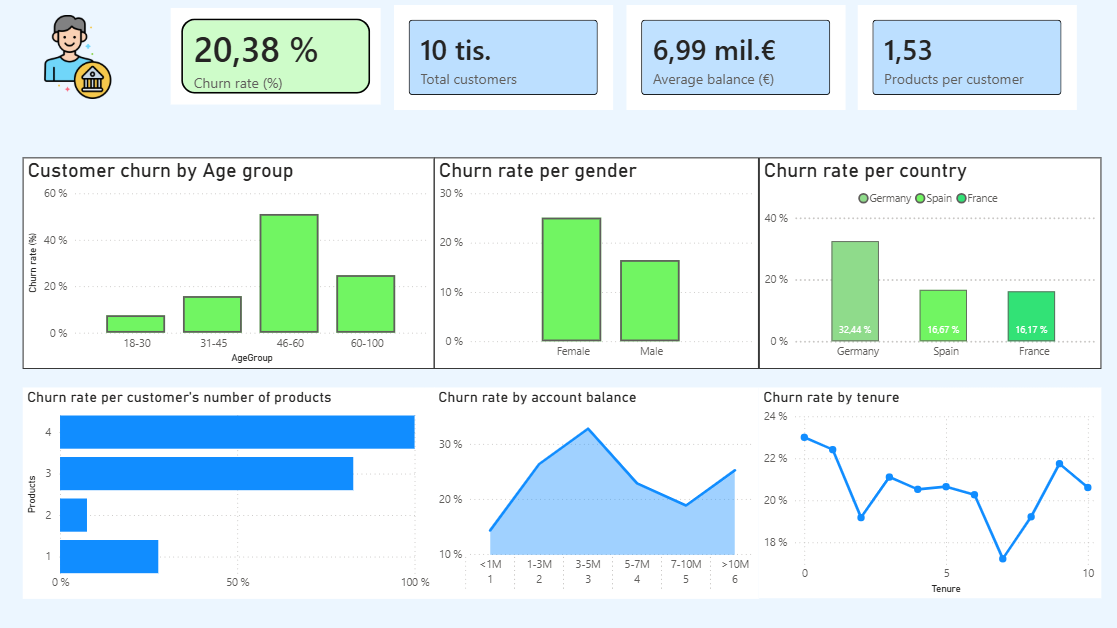

This screenshot's page, from the dashboard's own definition file:
{"tool":"powerbi","page":{"name":"Stranica 1","canvas":[1280,720],"ordinal":0},"visuals":[{"type":"cardVisual","fields":{"Data":["cleaned_bank_data.ChurnRate"]},"box":[191.4,4.3,250,120],"z":0},{"type":"cardVisual","fields":{"Data":["cleaned_bank_data.TotalClients"]},"box":[451.4,5.7,250,120],"z":1},{"type":"cardVisual","fields":{"Data":["cleaned_bank_data.AvgBalance"]},"box":[717.1,5.7,250,120],"z":2},{"type":"cardVisual","fields":{"Data":["cleaned_bank_data.AvgProducts"]},"box":[981.4,5.7,250,120],"z":3},{"type":"image","box":[27.1,17.1,125.7,95.7],"z":4},{"type":"columnChart","title":"Customer churn by Age group","fields":{"Category":["cleaned_bank_data.AgeGroup"],"Y":["cleaned_bank_data.Churn rate (%)"]},"box":[27.1,180,470,241.4],"z":5},{"type":"clusteredColumnChart","title":"Churn rate per gender","fields":{"Category":["cleaned_bank_data.Gender"],"Y":["cleaned_bank_data.Churn rate (%)"]},"box":[497.1,180,371.4,241.4],"z":6},{"type":"columnChart","title":"Churn rate per country","fields":{"Y":["cleaned_bank_data.Churn rate (%)"],"Category":["cleaned_bank_data.Geography"],"Series":["cleaned_bank_data.Geography"]},"box":[868.6,180,391.4,241.4],"z":7},{"type":"barChart","title":"Churn rate per customer''s number of products","fields":{"Y":["cleaned_bank_data.Churn rate (%)"],"Category":["cleaned_bank_data.NumOfProducts"]},"box":[27.1,442.9,470,241.4],"z":8},{"type":"areaChart","title":"Churn rate by account balance","fields":{"Y":["cleaned_bank_data.Churn rate (%)"],"Category":["cleaned_bank_data.BalanceBinSort","cleaned_bank_data.BalanceBin"]},"box":[497.1,442.9,371.4,241.4],"z":9},{"type":"lineChart","title":"Churn rate by tenure","fields":{"Category":["cleaned_bank_data.Tenure"],"Y":["cleaned_bank_data.Churn rate (%)"]},"box":[869,443,391,241],"z":10}]}

Visuals, with their boxes in screenshot pixels (x1, y1, x2, y2), scaled from the page's 1280x720 canvas onto the 1117x628 screenshot:
cardVisual - cleaned_bank_data.ChurnRate: Rect(167, 4, 385, 108)
cardVisual - cleaned_bank_data.TotalClients: Rect(394, 5, 612, 110)
cardVisual - cleaned_bank_data.AvgBalance: Rect(626, 5, 844, 110)
cardVisual - cleaned_bank_data.AvgProducts: Rect(856, 5, 1075, 110)
image: Rect(24, 15, 133, 98)
"Customer churn by Age group" columnChart: Rect(24, 157, 434, 368)
"Churn rate per gender" clusteredColumnChart: Rect(434, 157, 758, 368)
"Churn rate per country" columnChart: Rect(758, 157, 1100, 368)
"Churn rate per customer''s number of products" barChart: Rect(24, 386, 434, 597)
"Churn rate by account balance" areaChart: Rect(434, 386, 758, 597)
"Churn rate by tenure" lineChart: Rect(758, 386, 1100, 597)
